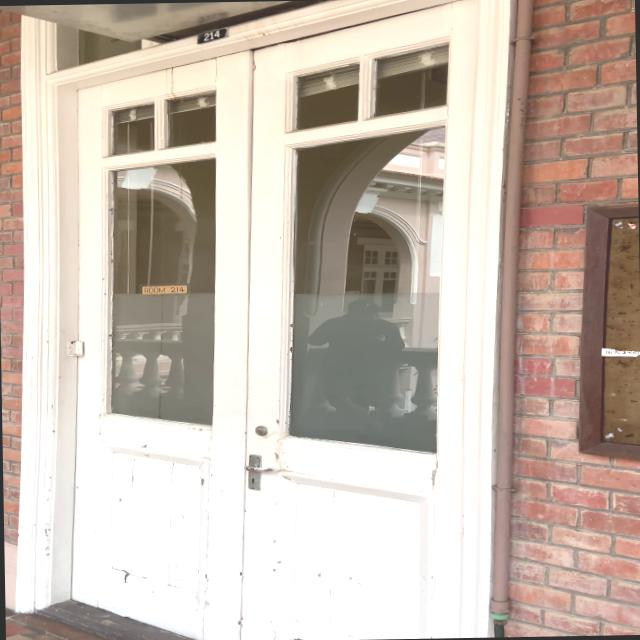room214: (195, 24, 230, 46)
